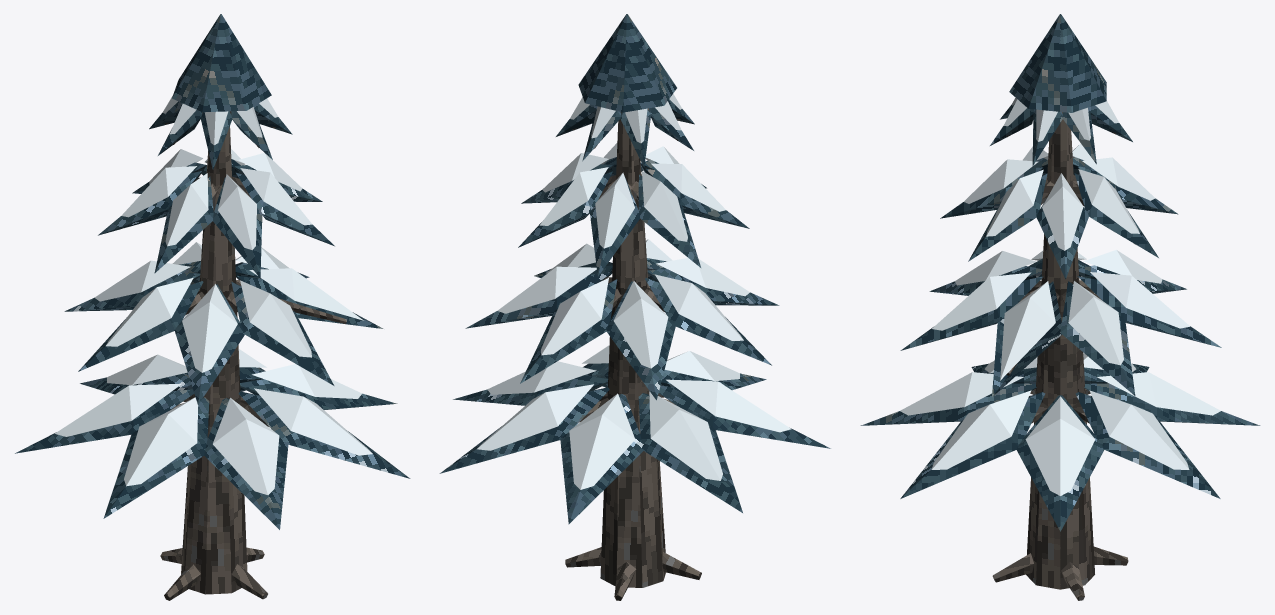
File: arvore_jovem.glb
3 renders of one model, left to right at view 1: azimuth 30°, elevation 25°; view 2: azimuth 150°, elevation 25°; view 3: azimuth 270°, elevation 25°, orthographic.
Visible parts, largest first — view 1: neve_arvore_jovem; view 2: neve_arvore_jovem; view 3: neve_arvore_jovem.
Boxes of the visible parts, left/top/right/bottom form: neve_arvore_jovem: left=15, top=14, right=410, bottom=600; neve_arvore_jovem: left=439, top=14, right=830, bottom=600; neve_arvore_jovem: left=860, top=14, right=1260, bottom=600.
Size of the model in its own units: 1.01 by 1.61 by 1.04.
Materials: 3 (2 with a texture image).
